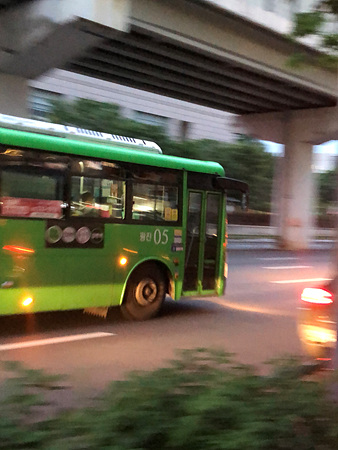entrance: (184, 185, 224, 295)
